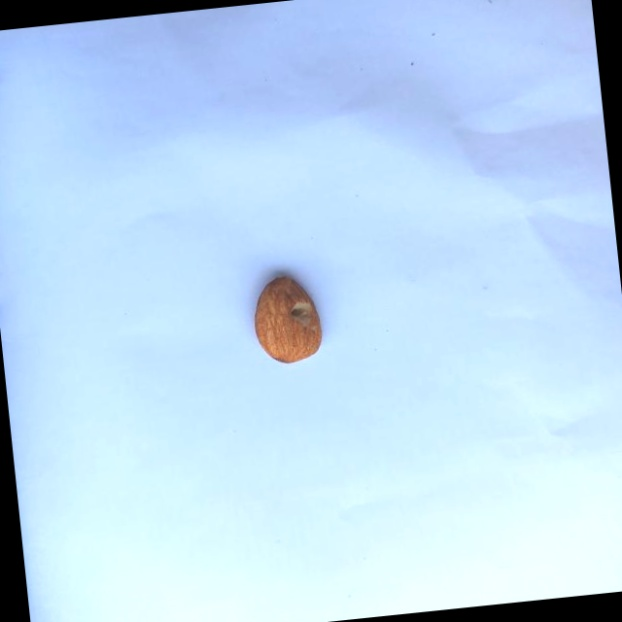grade3: (248, 268, 330, 371)
